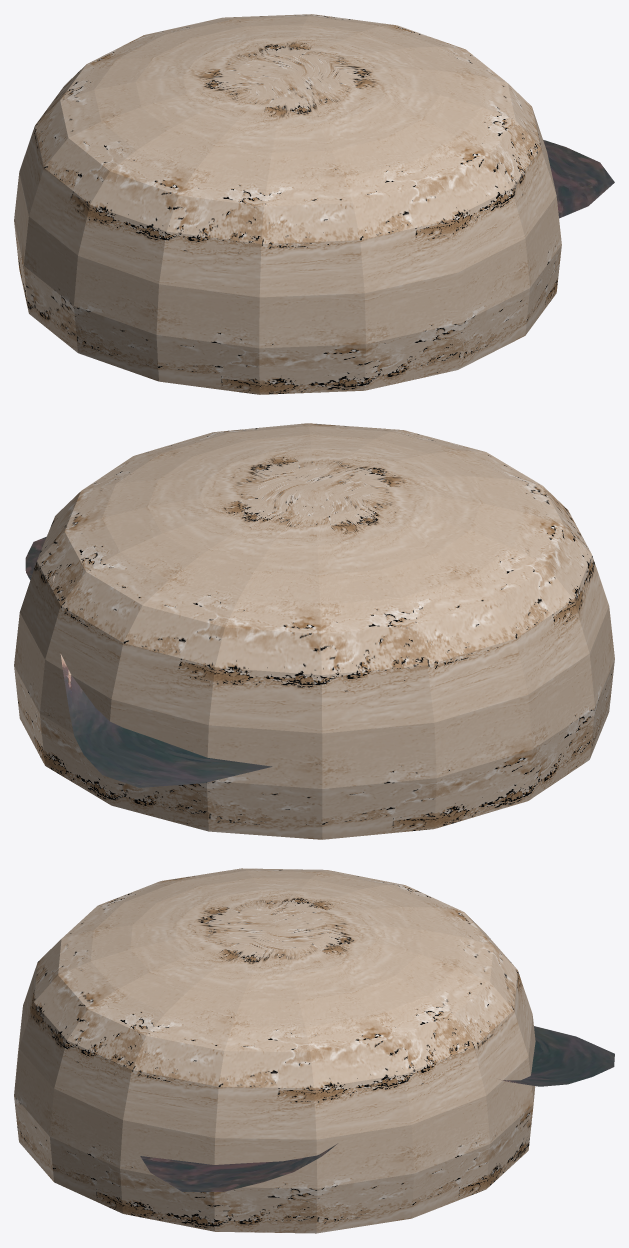
The model's file is track.glb.
The picture shows the model from 3 angles, top to bottom: view 1: azimuth 30°, elevation 25°; view 2: azimuth 150°, elevation 25°; view 3: azimuth 270°, elevation 25°; orthographic projection. The views are drawn at different scales.
Visible parts, largest first — view 1: mesh_26, mesh_8; view 2: mesh_26, mesh_8; view 3: mesh_26, mesh_8.
Boxes of the visible parts, <box> form: mesh_26: <box>14,14,561,394</box>; mesh_8: <box>543,140,614,218</box>; mesh_26: <box>14,423,614,839</box>; mesh_8: <box>25,537,272,787</box>; mesh_26: <box>14,868,535,1233</box>; mesh_8: <box>140,1026,614,1191</box>.
Bounding box in the file's own units: 796 × 301 × 828.
Materials: 27 (27 with a texture image).
